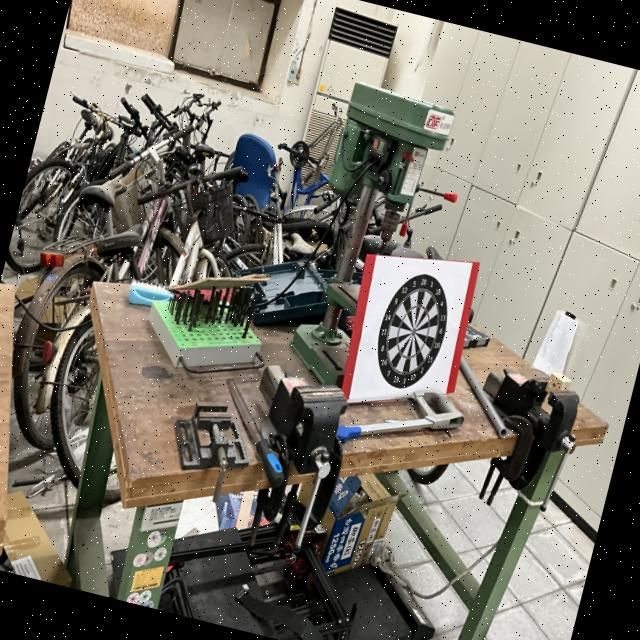archery-targets: (366, 262, 460, 397)
